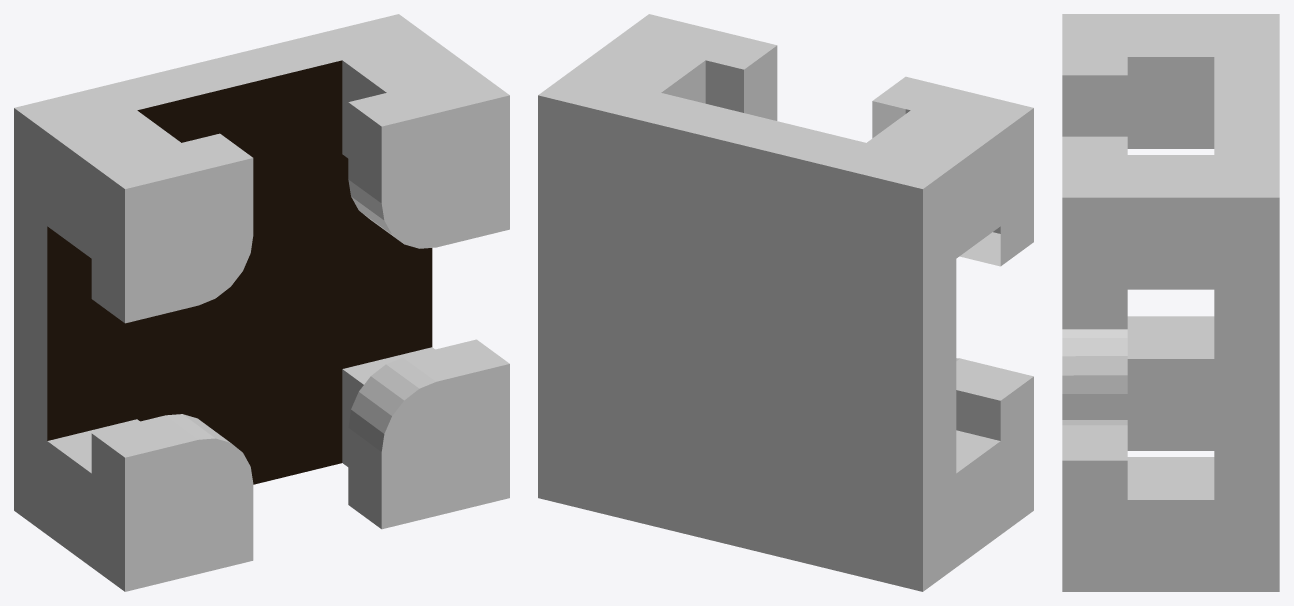
File: block_edge_quad.fbx
The picture shows the model from 3 angles, left to right: view 1: azimuth 30°, elevation 25°; view 2: azimuth 150°, elevation 25°; view 3: azimuth 270°, elevation 25°; orthographic projection. The views are drawn at different scales.
Visible parts, largest first — view 1: block_edge_quad; view 2: block_edge_quad; view 3: block_edge_quad.
Part boxes in pixels (x1,y1,x2,y2): block_edge_quad: (14, 14, 509, 591); block_edge_quad: (538, 14, 1033, 591); block_edge_quad: (1062, 14, 1279, 591).
Size of the model in its own units: 0.2 by 0.2 by 0.1.
